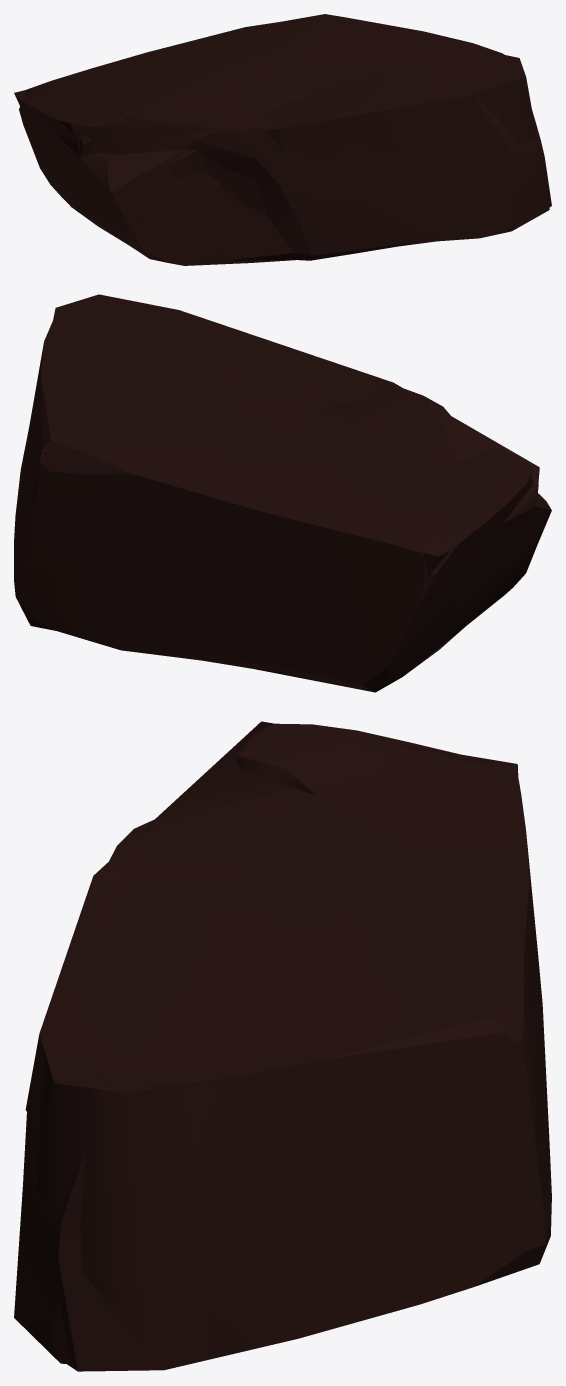
The model's file is SM_Rock_02.fbx.
3 renders of one model, top to bottom at view 1: azimuth 30°, elevation 25°; view 2: azimuth 150°, elevation 25°; view 3: azimuth 270°, elevation 25°, orthographic. The views are drawn at different scales.
Parts seen in each view (by area): view 1: SM_Rock_02, SM_Rock02_col; view 2: SM_Rock_02, SM_Rock02_col; view 3: SM_Rock_02, SM_Rock02_col.
Boxes of the visible parts, <box> form: SM_Rock_02: <box>19,14,551,265</box>; SM_Rock02_col: <box>14,55,549,265</box>; SM_Rock_02: <box>14,306,551,692</box>; SM_Rock02_col: <box>42,294,539,691</box>; SM_Rock_02: <box>14,723,551,1371</box>; SM_Rock02_col: <box>14,721,518,1369</box>.
Bounding box in the file's own units: 353 × 116 × 209.
